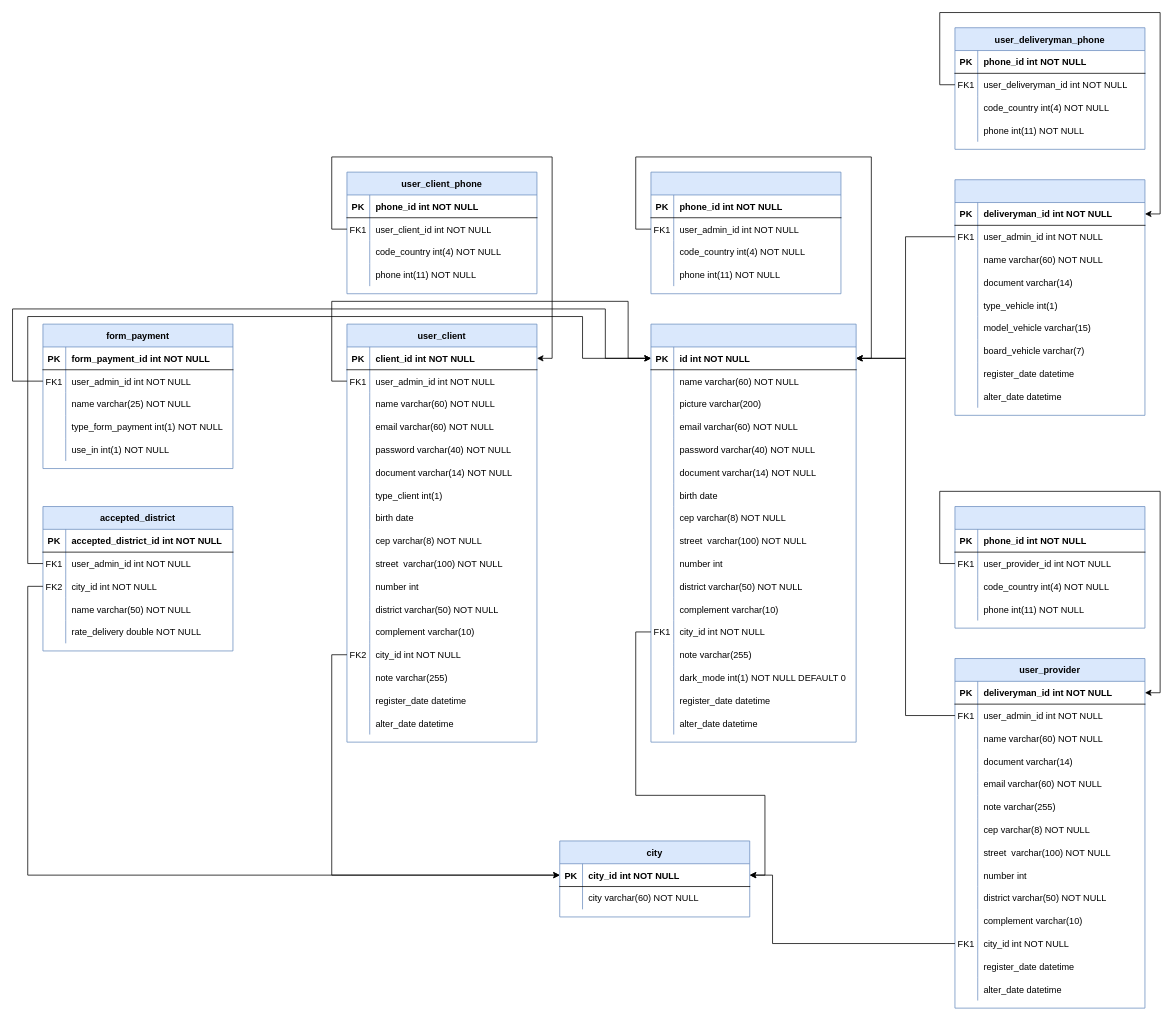
Some shapes in this 1173 by 1021 pixel diagram are drawn without their labels. The box of each missing label's shape, as (x1, y1, x2, y2) in pixels:
user_admin: (650, 323, 856, 742)
user_admin_phone: (650, 171, 841, 294)
user_deliveryman: (954, 179, 1145, 415)
user_provider_phone: (954, 506, 1145, 628)
